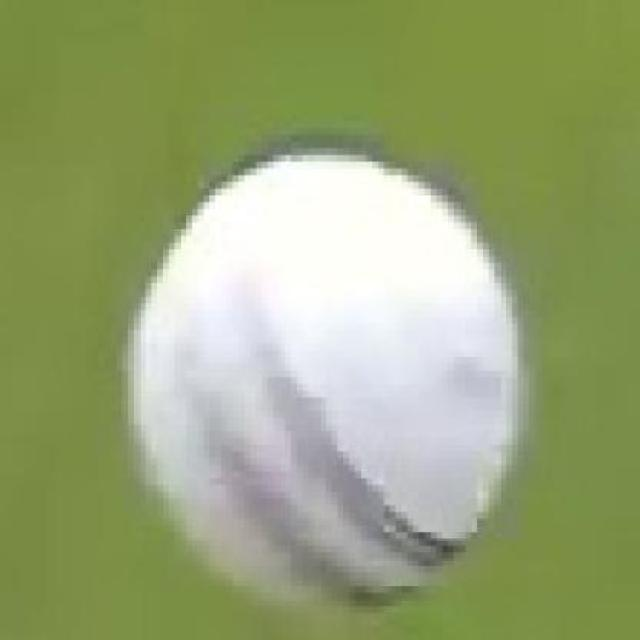Cricket ball: (124, 142, 525, 618)
